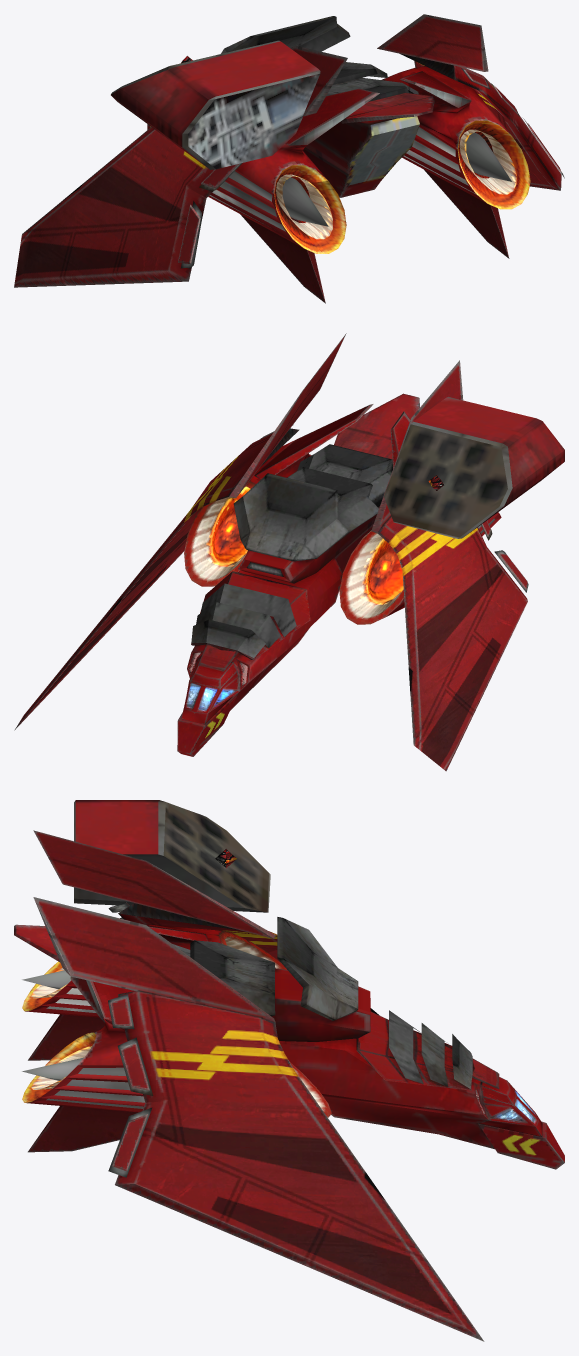
The model's file is streuner-rocketeer.glb.
The picture shows the model from 3 angles, top to bottom: view 1: azimuth 30°, elevation 25°; view 2: azimuth 150°, elevation 25°; view 3: azimuth 270°, elevation 25°; orthographic projection. The views are drawn at different scales.
Parts seen in each view (by area): view 1: Streuner_Rocketeer; view 2: Streuner_Rocketeer; view 3: Streuner_Rocketeer.
Boxes of the visible parts, box(x1,y1,x2,y2) form: Streuner_Rocketeer: box(14, 14, 564, 303); Streuner_Rocketeer: box(14, 333, 564, 771); Streuner_Rocketeer: box(14, 800, 564, 1341).
Size of the model in its own units: 126 by 91.2 by 127.
2 materials, 2 textured.
